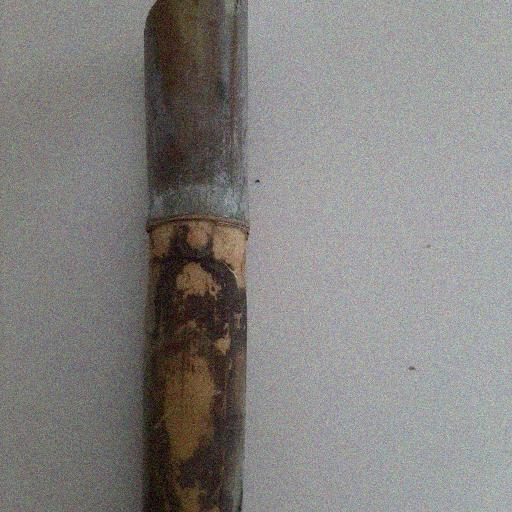Bud: (182, 224, 210, 257)
